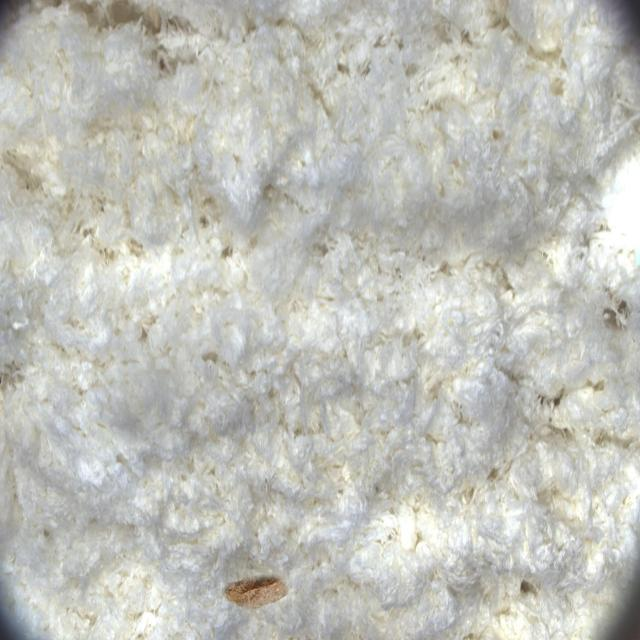dust: (197, 544, 306, 640)
